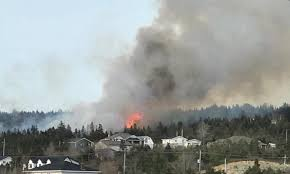fire: (127, 109, 144, 131)
smoke: (113, 5, 285, 104)
